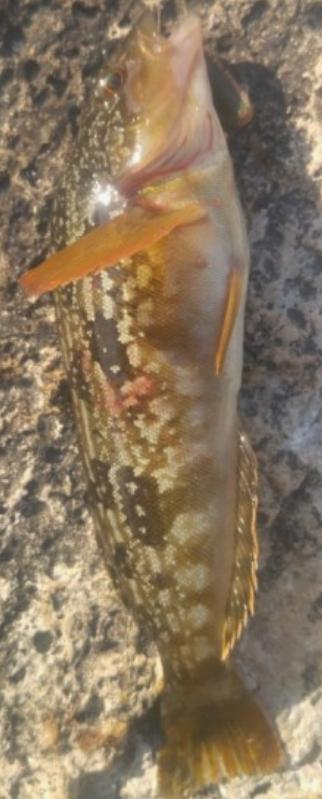fish: (22, 13, 283, 798)
